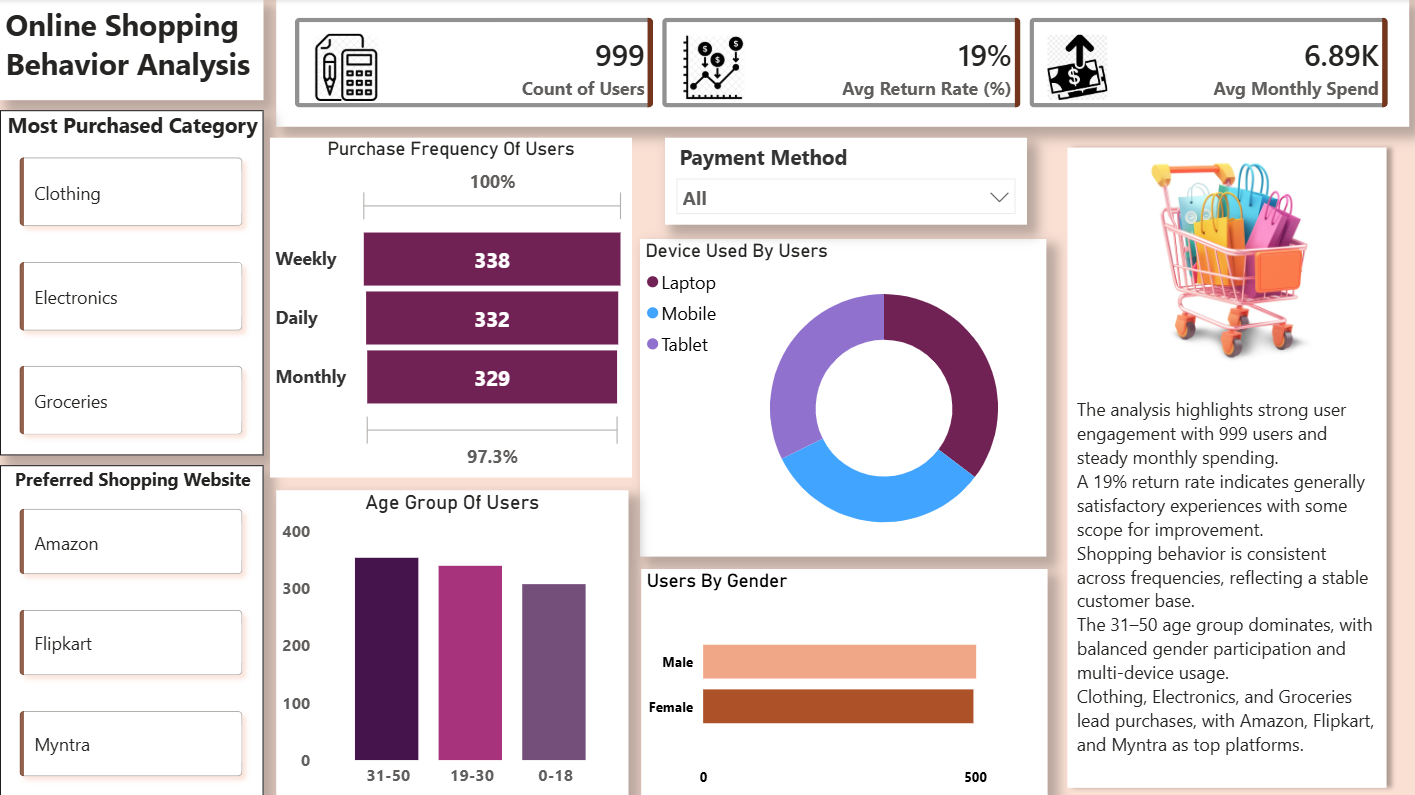

Layout of this report page (visuals, bound fields, positions):
{"tool":"powerbi","page":{"name":"Page 1","canvas":[1280,720],"ordinal":0},"visuals":[{"type":"textbox","box":[0,0,237.5,91.2],"z":0},{"type":"cardVisual","fields":{"Data":["CountNonNull(shoppingdata.User ID)","Avg(shoppingdata.Return Rate (%))","Avg(shoppingdata.Avg Spend Clean)"]},"box":[248.8,0,1021.2,115],"z":1000},{"type":"advancedSlicerVisual","fields":{"Values":["shoppingdata.Most Purchased Category"]},"box":[0,100,237.5,311.2],"z":2000},{"type":"advancedSlicerVisual","fields":{"Values":["shoppingdata.Preferred Shopping Website"]},"box":[0,420,237.5,300],"z":3000},{"type":"donutChart","title":" Device Used By Users","fields":{"Category":["shoppingdata.Device Used"],"Y":["CountNonNull(shoppingdata.User ID)"]},"box":[577.5,216.2,366.2,286.2],"z":4000},{"type":"clusteredColumnChart","title":" Age Group Of Users","fields":{"Category":["shoppingdata.Age Group"],"Y":["CountNonNull(shoppingdata.User ID)"]},"box":[248.8,442.5,317.5,277.5],"z":5000},{"type":"clusteredBarChart","title":"Users By Gender","fields":{"Category":["shoppingdata.Gender"],"Y":["CountNonNull(shoppingdata.User ID)"]},"box":[578.8,513.8,366.2,206.2],"z":6000},{"type":"slicer","fields":{"Values":["shoppingdata.Payment Method"]},"box":[600,125,326.2,78.8],"z":7000},{"type":"funnel","title":"Purchase Frequency Of Users","fields":{"Category":["shoppingdata.Purchase Frequency"],"Y":["CountNonNull(shoppingdata.User ID)"]},"box":[243.8,125,326.2,306.2],"z":8000},{"type":"shape","box":[953.8,125,316.2,595],"z":9000},{"type":"image","box":[995,136.2,233.8,200],"z":10000},{"type":"textbox","box":[966.2,336.2,292.5,371.2],"z":11000}]}

Visuals, with their boxes in screenshot pixels (x1, y1, x2, y2), scaled from the page's 1280x720 canvas onto the 1415x795 screenshot:
textbox: box(0, 0, 263, 101)
cardVisual - CountNonNull(shoppingdata.User ID) x Avg(shoppingdata.Return Rate (%)): box(275, 0, 1404, 127)
advancedSlicerVisual - shoppingdata.Most Purchased Category: box(0, 110, 263, 454)
advancedSlicerVisual - shoppingdata.Preferred Shopping Website: box(0, 464, 263, 794)
" Device Used By Users" donutChart: box(638, 239, 1043, 555)
" Age Group Of Users" clusteredColumnChart: box(275, 489, 626, 794)
"Users By Gender" clusteredBarChart: box(640, 567, 1045, 794)
slicer - shoppingdata.Payment Method: box(663, 138, 1024, 225)
"Purchase Frequency Of Users" funnel: box(270, 138, 630, 476)
shape: box(1054, 138, 1404, 794)
image: box(1100, 150, 1358, 371)
textbox: box(1068, 371, 1391, 781)
